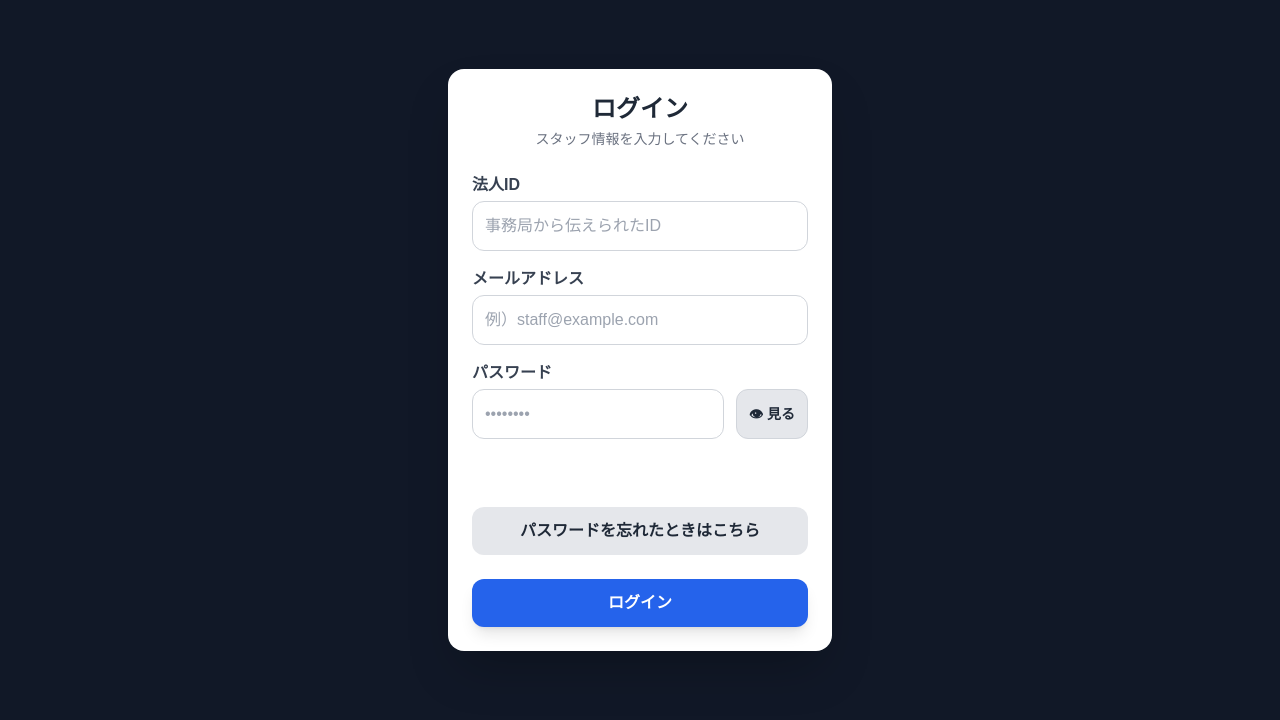
ログイン画面: 公開デモ(GET /api/demo/config) › 保存期間が無い(本番の環境に置いたデモ用テナントで未設定)ときは、期間も「毎晩」も書かない
Type "public-demo" into the field labelled "法人ID" at (640, 226), box [472,201,808,251]
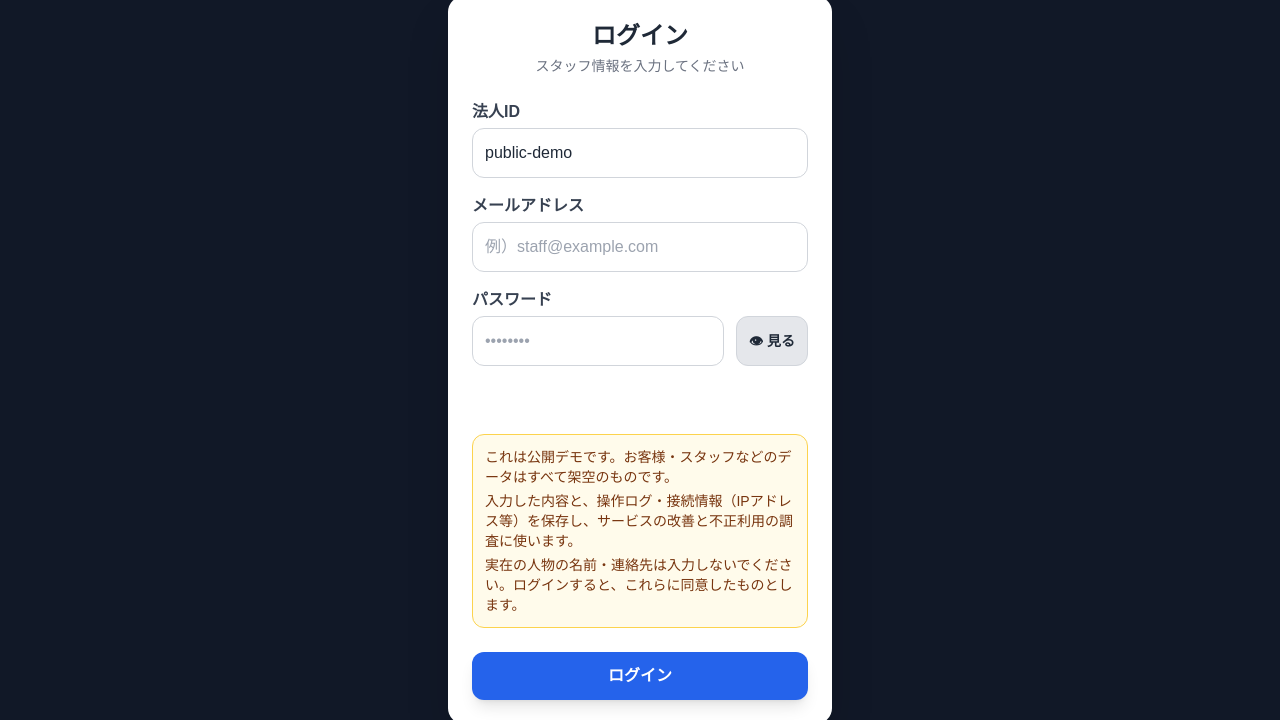
Result: the element that starts with "これは公開デモです。お客様・スタッフなどのデータはすべて架空のものです。" shows "入力した内容と、操作ログ・接続情報（IPアドレス等）を保存し、サービスの改善と不正利用の調査に使います。" at [485,493,793,549]
